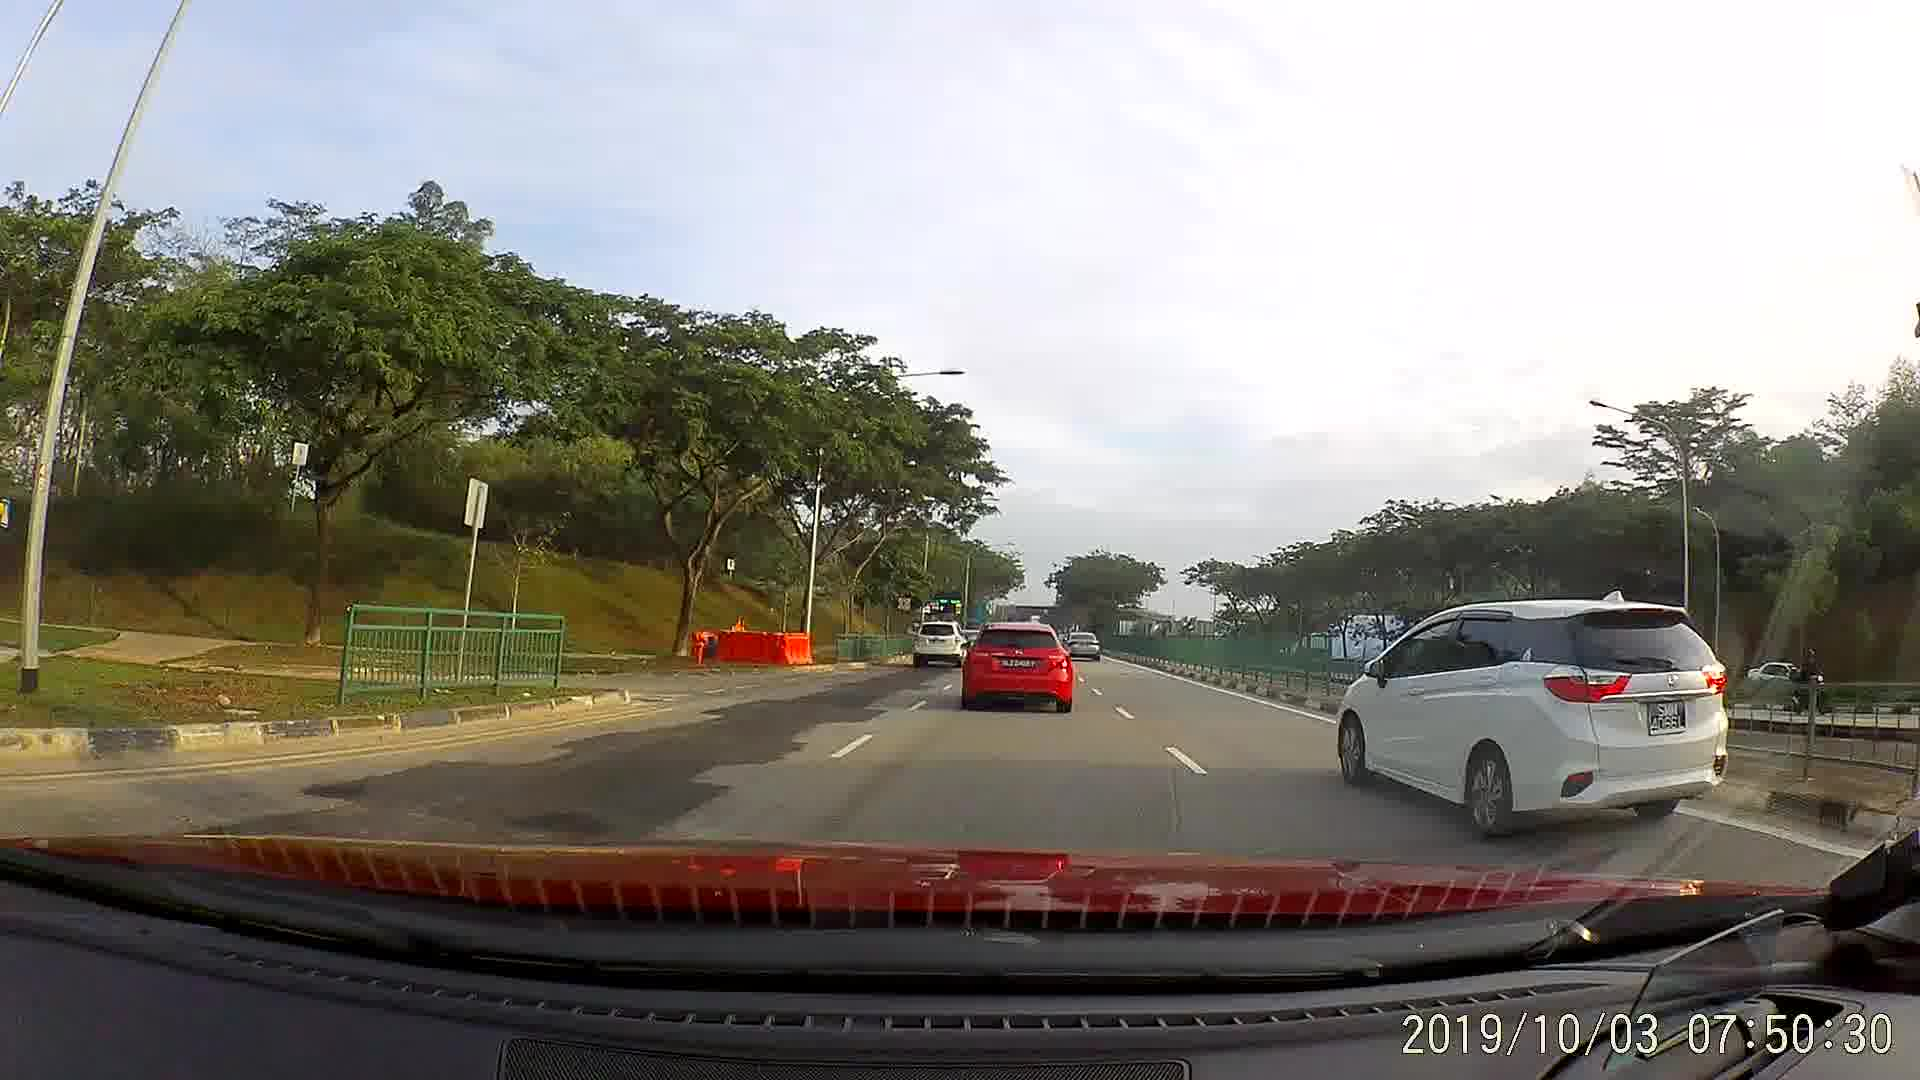car: (960, 617, 1076, 717), (907, 613, 973, 676), (1749, 653, 1832, 702), (1063, 632, 1106, 662)
